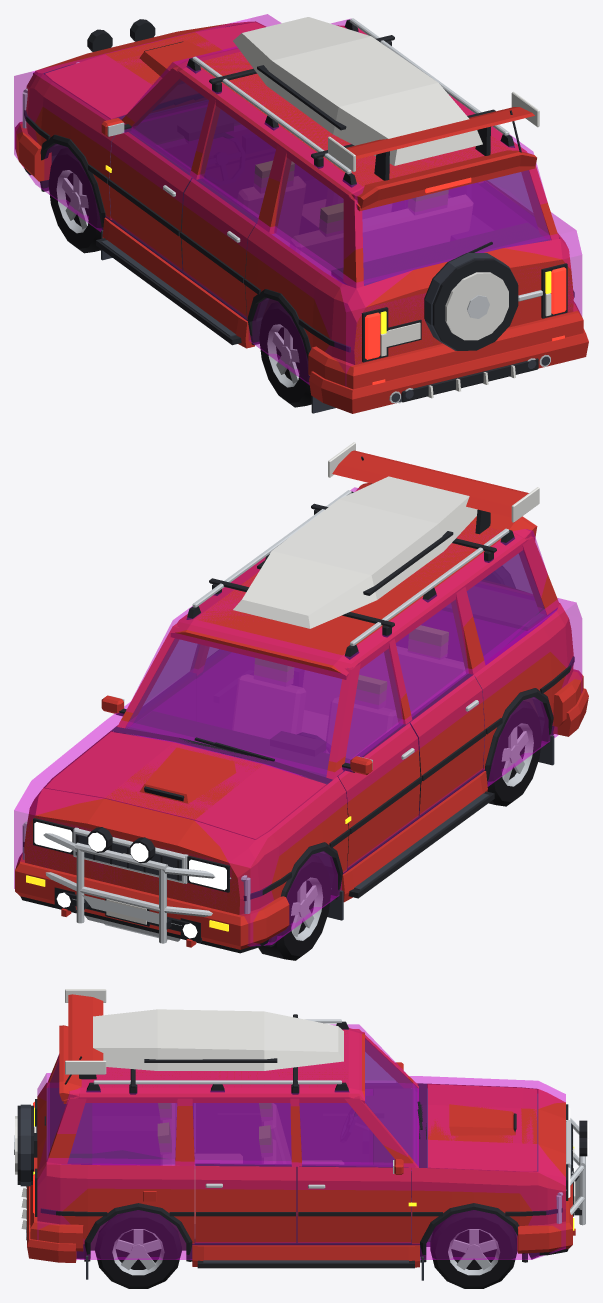
The model's file is suv.glb.
3 views of the same model, one above another, from view 1: azimuth 30°, elevation 25°; view 2: azimuth 150°, elevation 25°; view 3: azimuth 270°, elevation 25° (orthographic). The views are drawn at different scales.
Visible parts, largest first — view 1: Body, Col_Cabin, Col_Body, Mod_Roof_A, Glass_L, Glass_Rear, Door_FL, Door_RL, Mod_BumperR_A, Hood, Mod_Spoiler_B, Wheel_FL (+8 smaller); view 2: Body, Col_Cabin, Col_Body, Mod_Roof_A, Glass_Windshield, Glass_L, Hood, Door_FL, Door_RL, Mod_BumperF_A, Mod_Spoiler_B, Wheel_FL (+10 smaller); view 3: Body, Col_Body, Col_Cabin, Glass_R, Mod_Roof_A, Door_FR, Door_RR, Hood, Wheel_FR, Wheel_RR, Mod_Skirts_A, Glass_Windshield (+9 smaller).
Part boxes in pixels (left/top/right/bottom): Body: left=15, top=18, right=583, bottom=413; Col_Cabin: left=126, top=18, right=549, bottom=284; Col_Body: left=14, top=14, right=582, bottom=386; Mod_Roof_A: left=209, top=17, right=495, bottom=168; Glass_L: left=131, top=79, right=343, bottom=279; Glass_Rear: left=362, top=170, right=550, bottom=285; Door_FL: left=101, top=118, right=191, bottom=270; Door_RL: left=180, top=178, right=257, bottom=317; Mod_BumperR_A: left=309, top=329, right=588, bottom=413; Hood: left=45, top=22, right=264, bottom=119; Mod_Spoiler_B: left=328, top=91, right=539, bottom=180; Wheel_FL: left=48, top=147, right=102, bottom=253; Body: left=15, top=456, right=583, bottom=953; Col_Cabin: left=126, top=487, right=557, bottom=775; Col_Body: left=14, top=598, right=582, bottom=946; Mod_Roof_A: left=209, top=476, right=496, bottom=637; Glass_Windshield: left=126, top=638, right=341, bottom=776; Glass_L: left=345, top=551, right=546, bottom=762; Hood: left=45, top=731, right=326, bottom=839; Door_FL: left=337, top=723, right=421, bottom=868; Door_RL: left=410, top=673, right=485, bottom=815; Mod_BumperF_A: left=22, top=821, right=250, bottom=943; Mod_Spoiler_B: left=328, top=442, right=539, bottom=534; Wheel_FL: left=258, top=855, right=331, bottom=960; Body: left=14, top=1019, right=575, bottom=1280; Col_Body: left=37, top=1073, right=565, bottom=1259; Col_Cabin: left=49, top=1024, right=418, bottom=1170; Glass_R: left=68, top=1103, right=394, bottom=1165; Mod_Roof_A: left=93, top=1009, right=343, bottom=1094; Door_FR: left=297, top=1159, right=411, bottom=1242; Door_RR: left=195, top=1163, right=296, bottom=1242; Hood: left=428, top=1084, right=537, bottom=1171; Wheel_FR: left=430, top=1210, right=517, bottom=1288; Wheel_RR: left=94, top=1210, right=181, bottom=1288; Mod_Skirts_A: left=192, top=1245, right=419, bottom=1267; Glass_Windshield: left=365, top=1039, right=416, bottom=1163.
Size of what is drawn, in the model's own units: 2.14 by 2.12 by 5.
